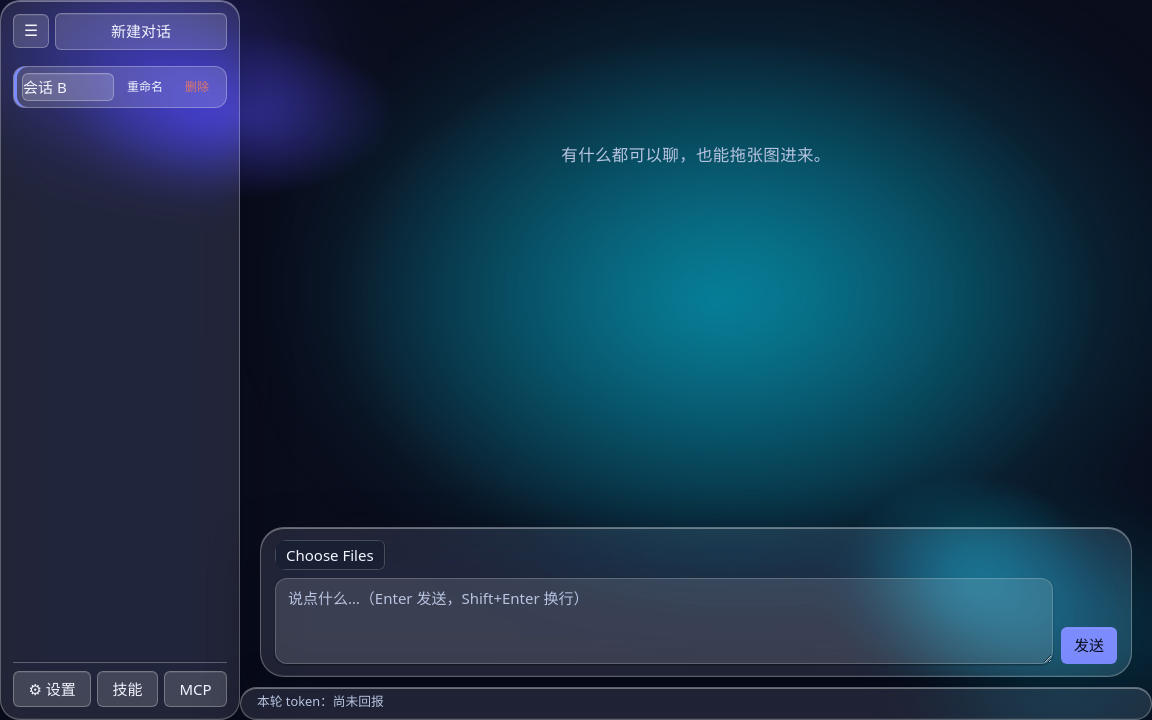
Test: App 设置接线 › writes the whole table through settings_set and applies the theme once
Step 1. Click the button "⚙ 设置" → (52, 689), box [13, 670, 91, 707]
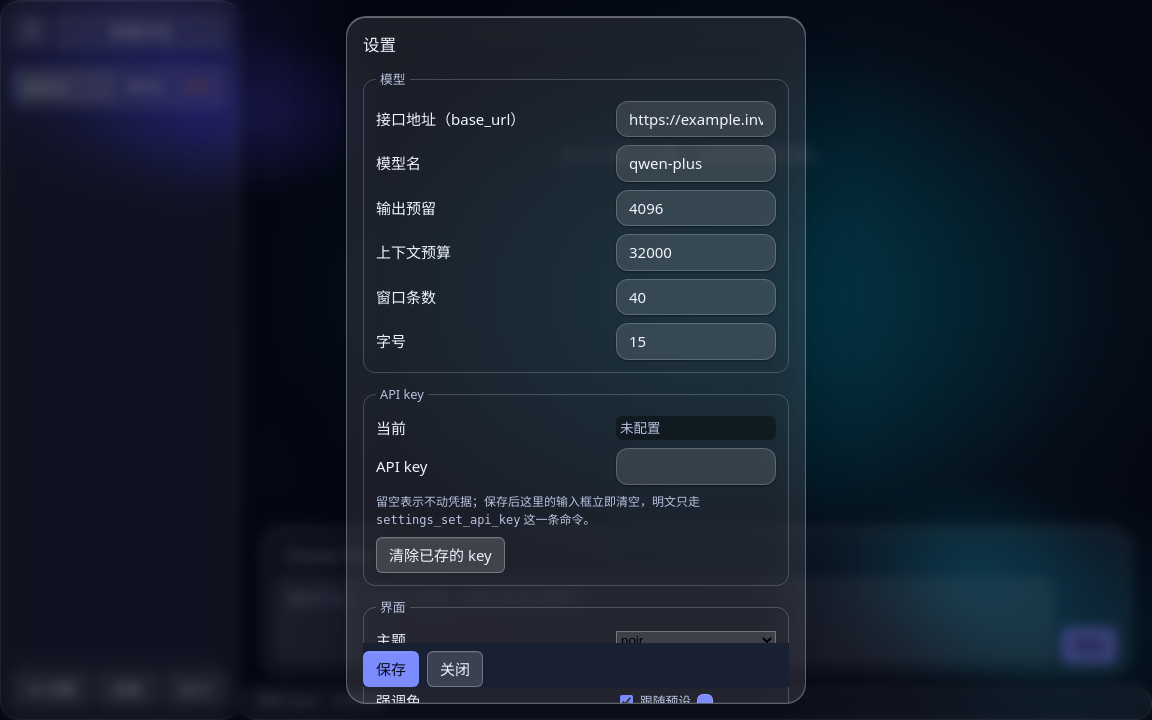
Step 2. Replace the text in the field labelled "模型名" with "qwen-turbo" → (696, 164), box [616, 145, 776, 182]
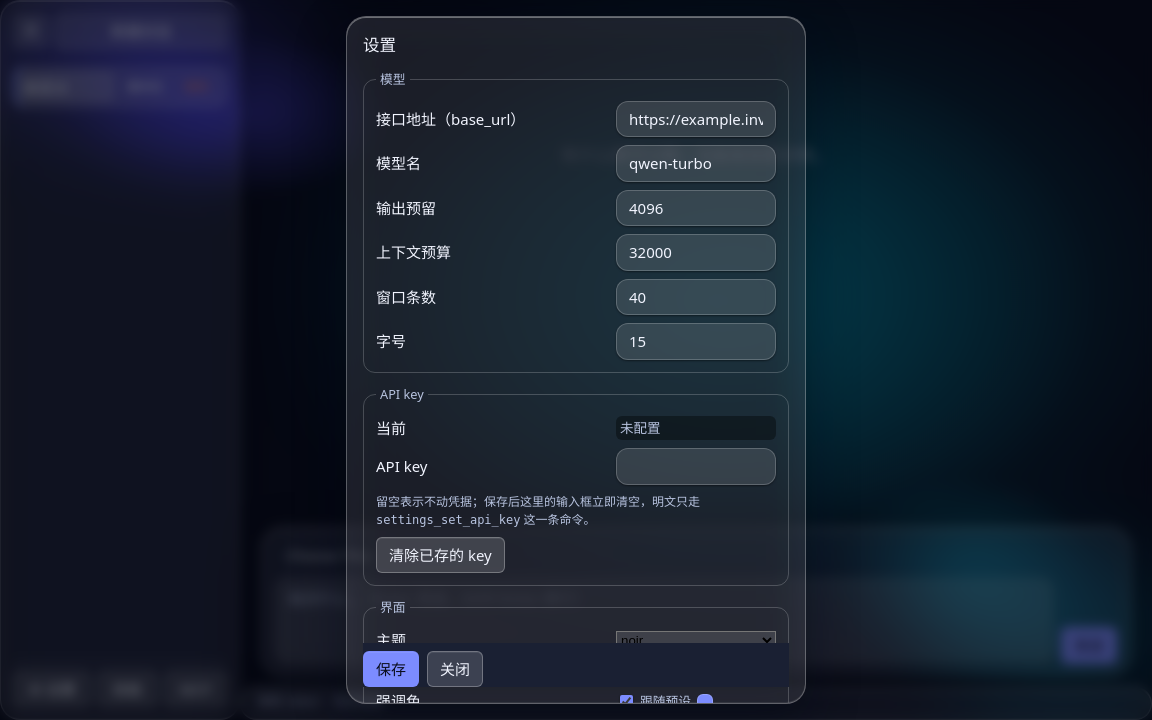
Step 3. Select "paper" in the dropdown labelled "主题" → (696, 641), box [616, 631, 776, 650]
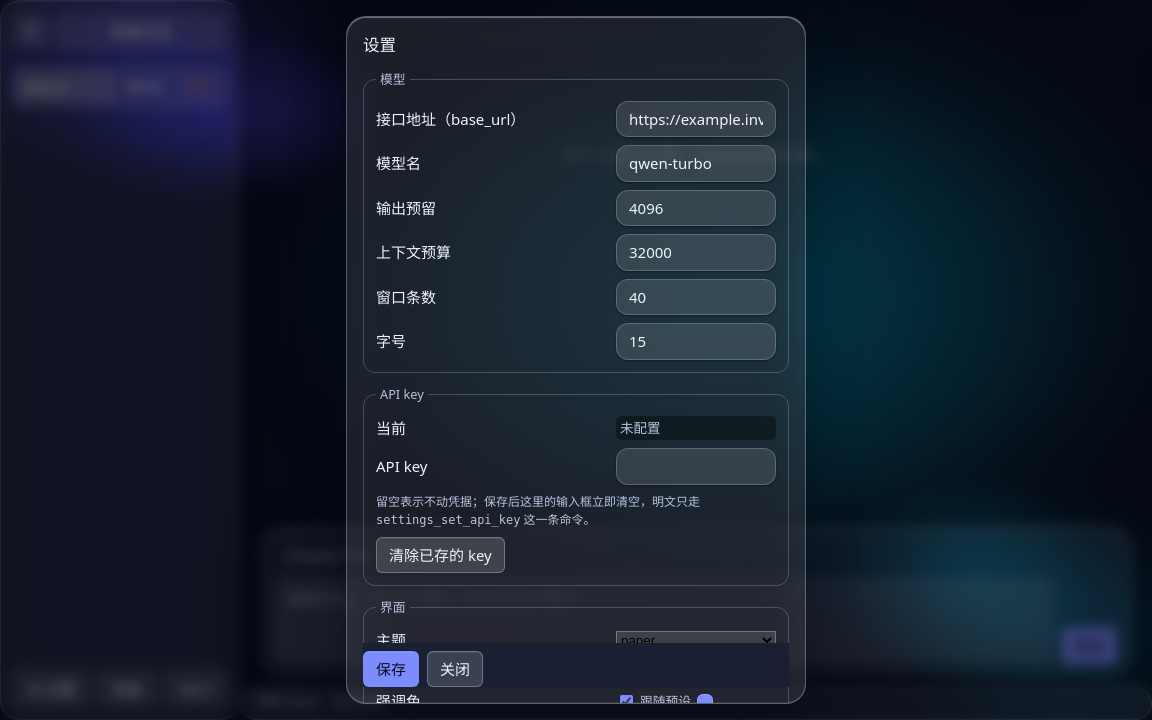
Step 4. Replace the text in the number field labelled "字号" with "17" → (696, 342), box [616, 323, 776, 360]
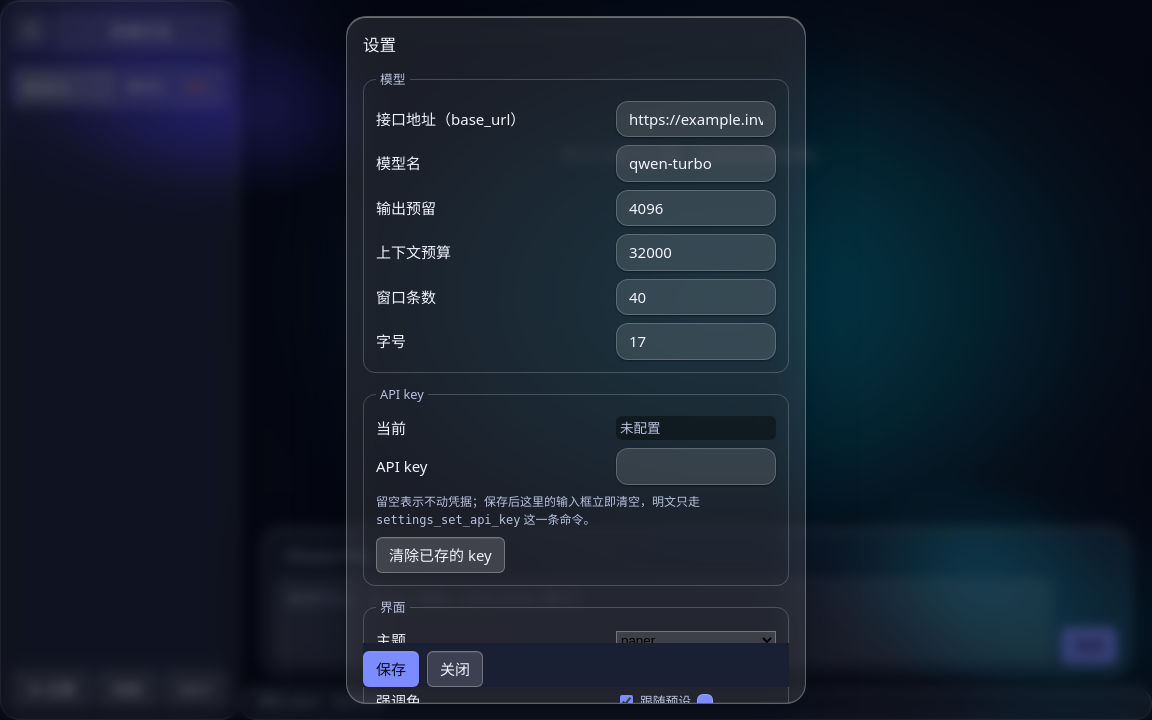
Step 5. Click the button "保存" → (391, 669), box [363, 650, 419, 687]
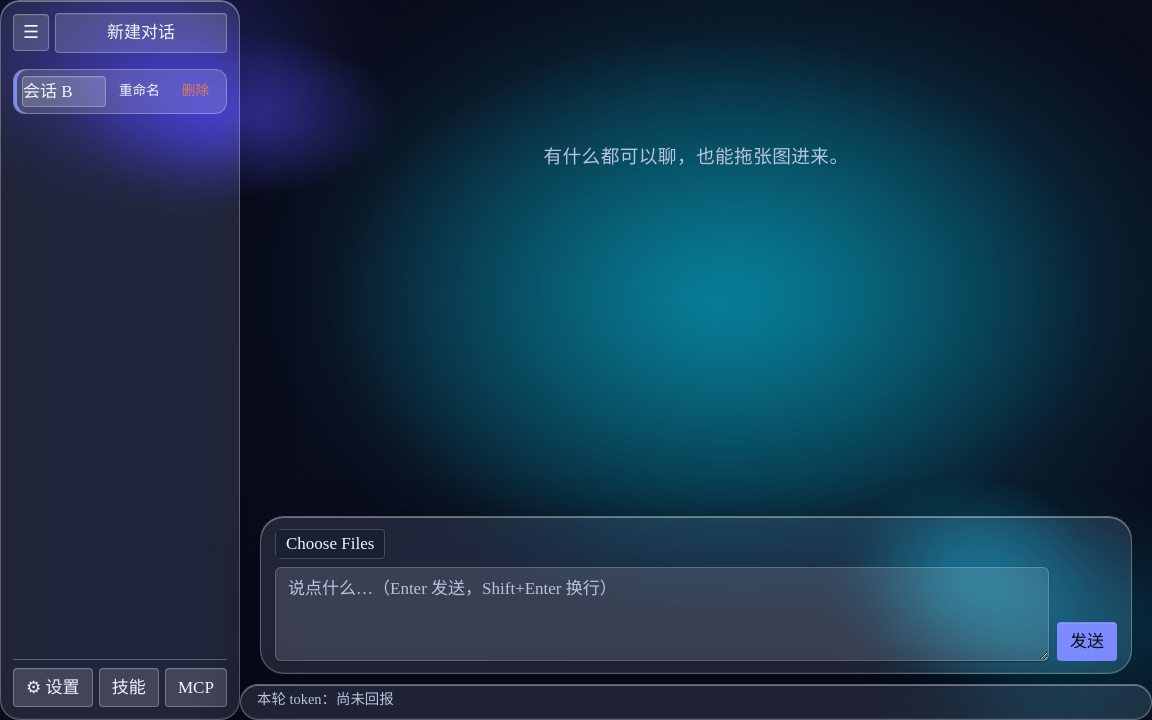
Result: the dialog is gone
